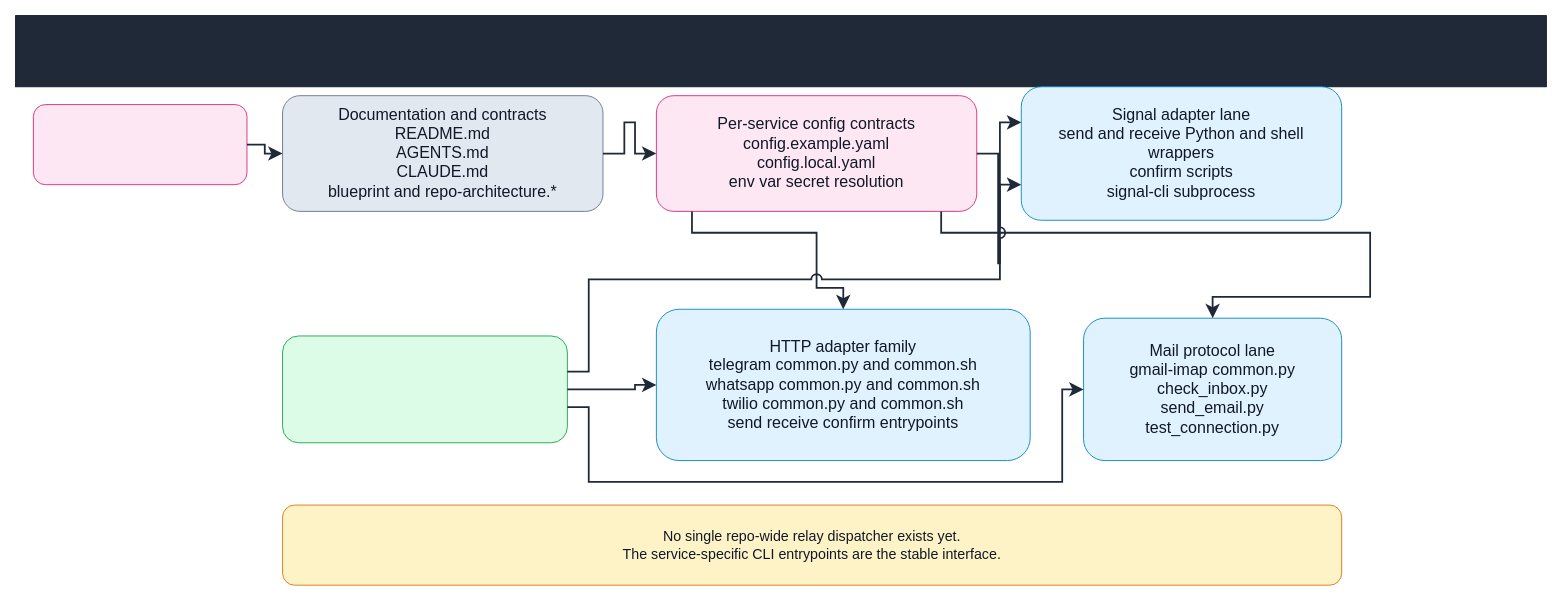
This 1562x601 diagram has some shape labels left out. The shapes that lost their labels are listed below. From the top down, each one's box as (x1, y1, x2, y2) in pixels, then its label:
(15, 15, 1546, 87): shock-relay Repository Architecture
(32, 104, 247, 185): Contributor operates provider entrypoints
(282, 335, 567, 443): CI verification .github/workflows/ci.yml compileall shellcheck
